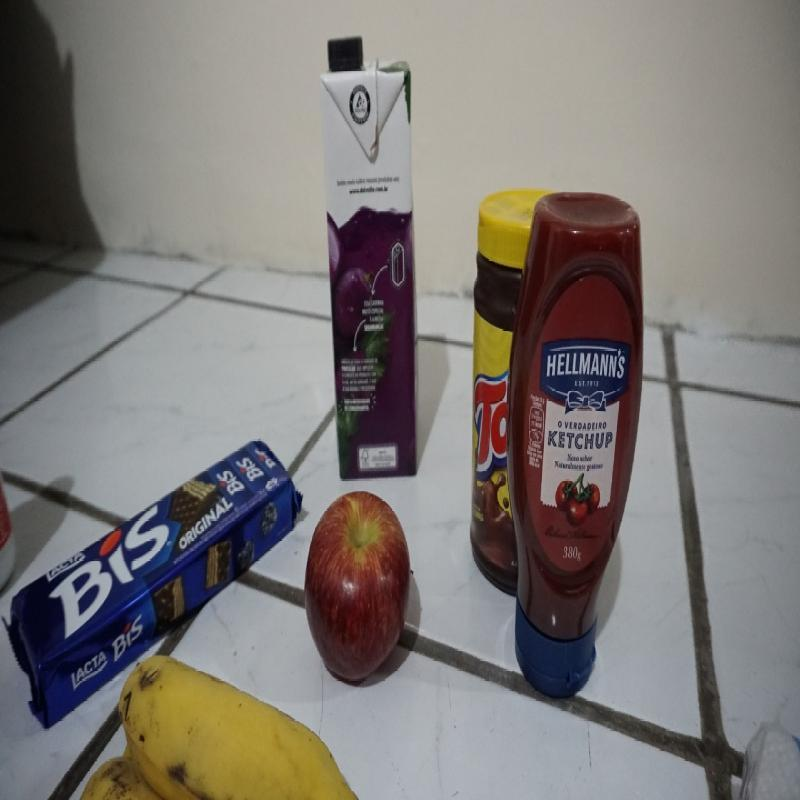Apple: (304, 491, 414, 686)
Banana: (74, 655, 379, 800)
Chocolate Powder: (468, 183, 527, 598)
Ketchup: (505, 186, 644, 705)
